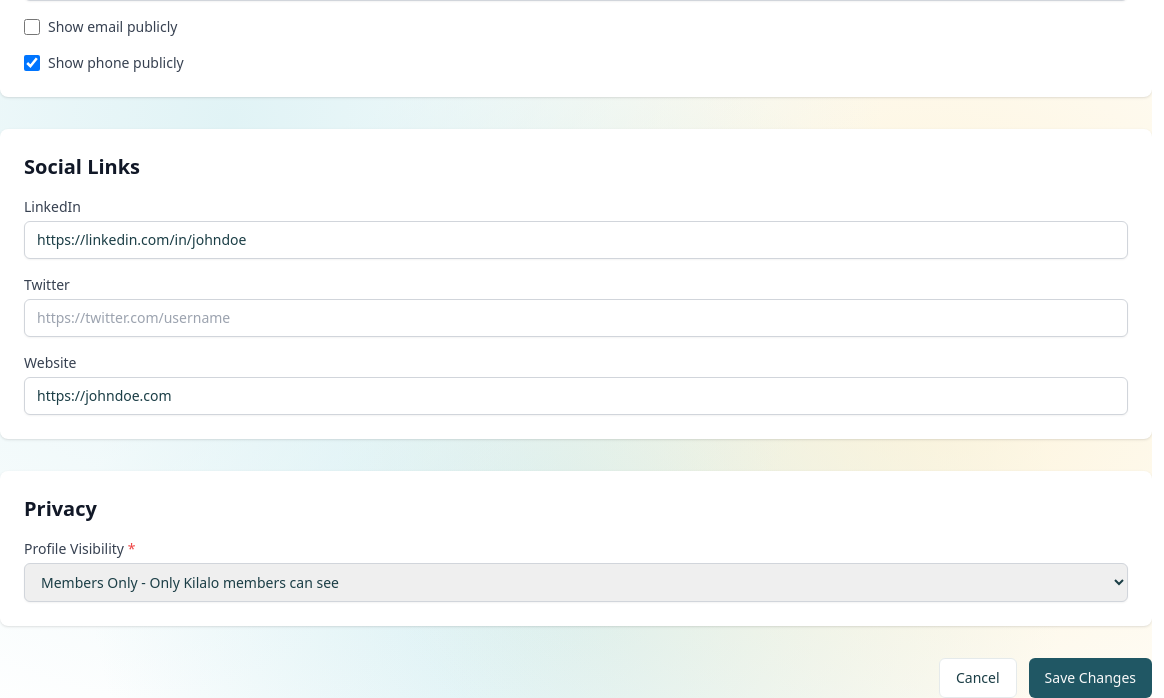
it: ProfileForm › Form Submission › shows error message on failed save
(page scrolled)
Click the button "Save Changes" at [1090, 678], box [1029,658,1152,697]
(page scrolled)
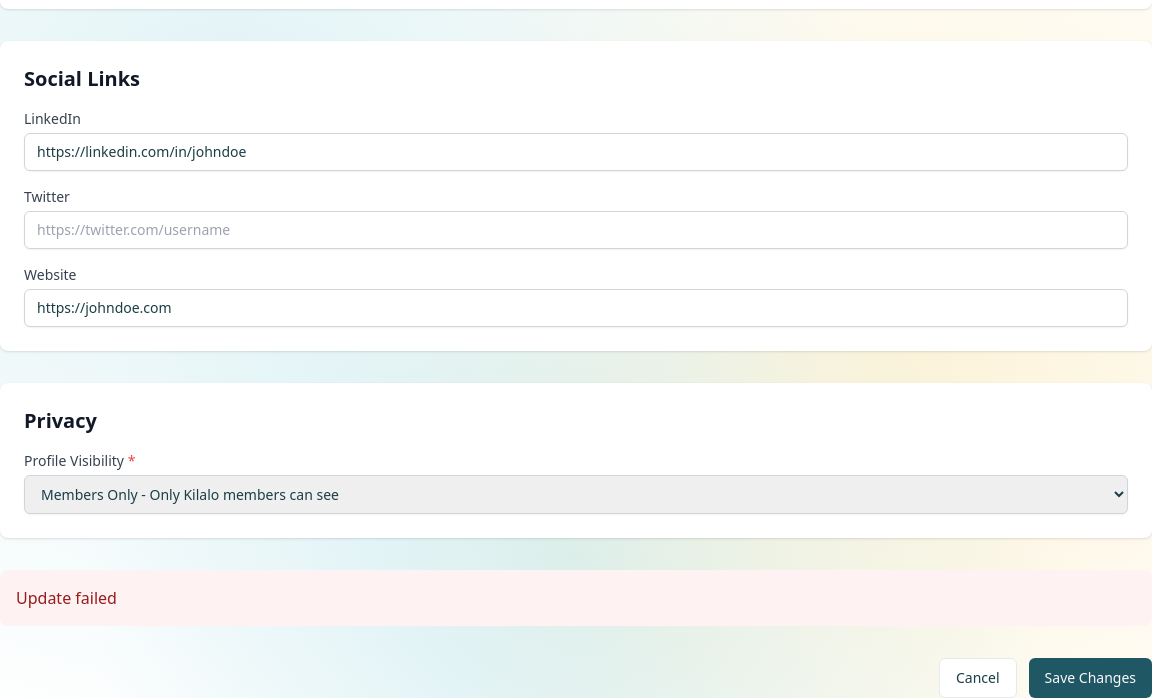
Result: the text "Update failed" is shown at [0,570,1152,626]
